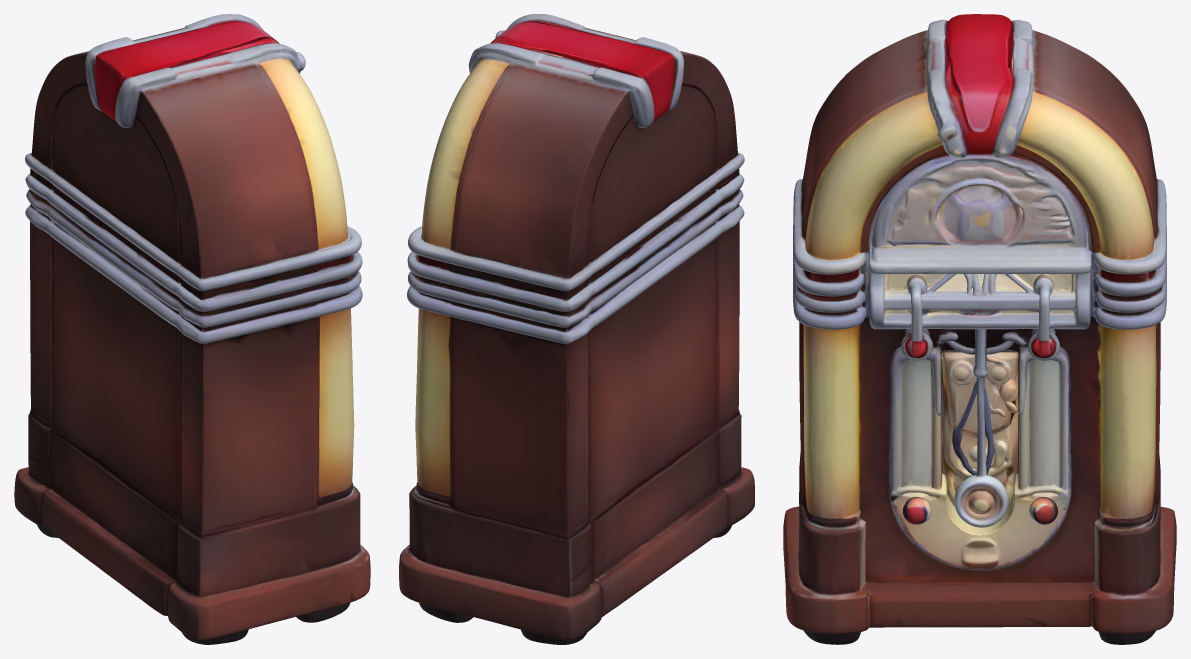
File: prop-jukebox.glb
3 renders of one model, left to right at view 1: azimuth 30°, elevation 25°; view 2: azimuth 150°, elevation 25°; view 3: azimuth 270°, elevation 25°, orthographic. The views are drawn at different scales.
Visible parts, largest first — view 1: tripo_node_108d254a-53b8-44a7-8ca4-17472845bb68; view 2: tripo_node_108d254a-53b8-44a7-8ca4-17472845bb68; view 3: tripo_node_108d254a-53b8-44a7-8ca4-17472845bb68.
Boxes of the visible parts, bbox=[...] form: tripo_node_108d254a-53b8-44a7-8ca4-17472845bb68: bbox=[14, 14, 370, 644]; tripo_node_108d254a-53b8-44a7-8ca4-17472845bb68: bbox=[399, 14, 754, 644]; tripo_node_108d254a-53b8-44a7-8ca4-17472845bb68: bbox=[783, 14, 1176, 644].
Bounding box in the file's own units: 0.7203 × 1.8 × 1.17.
1 material, 1 textured.
